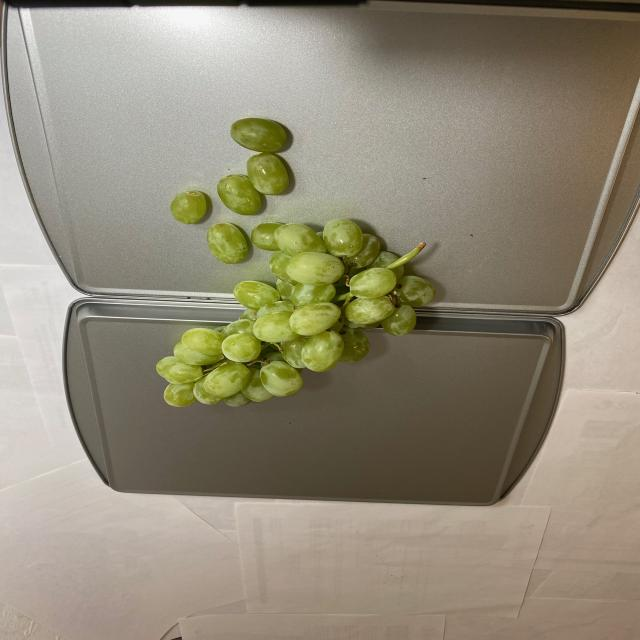grapes: (152, 120, 436, 410)
